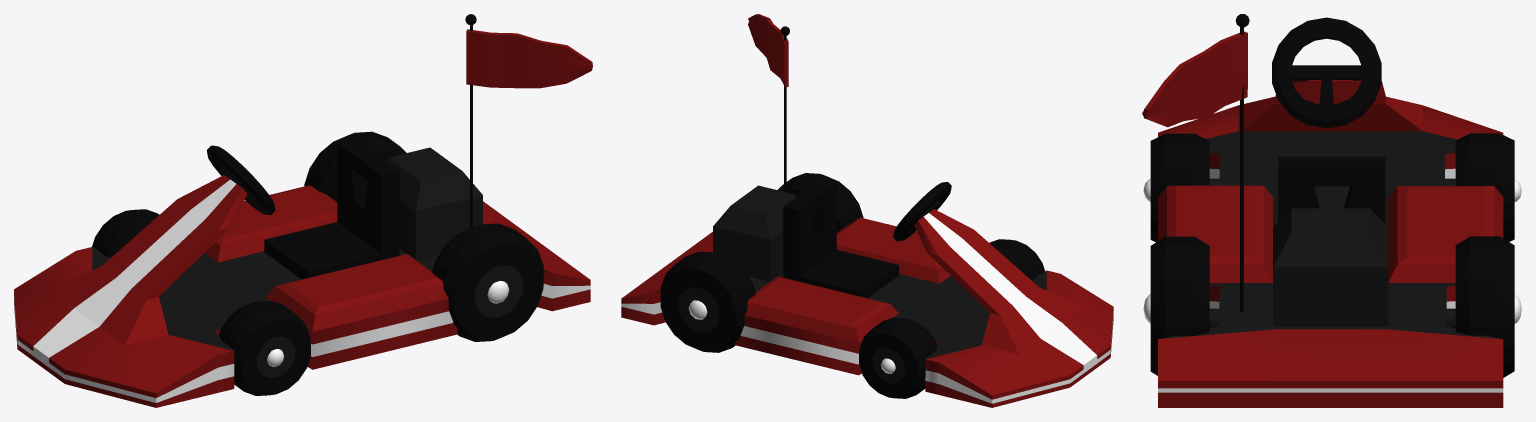
File: GoKart_1381.obj
3 renders of one model, left to right at view 1: azimuth 30°, elevation 25°; view 2: azimuth 150°, elevation 25°; view 3: azimuth 270°, elevation 25°, orthographic. The views are drawn at different scales.
Parts seen in each view (by area): view 1: Box001; view 2: Box001; view 3: Box001.
Boxes of the visible parts, x1,y1,x2,y2 form: Box001: [14, 14, 592, 407]; Box001: [621, 14, 1113, 407]; Box001: [1142, 14, 1521, 407].
Size of the model in its own units: 72.53 by 43.6 by 41.04.
